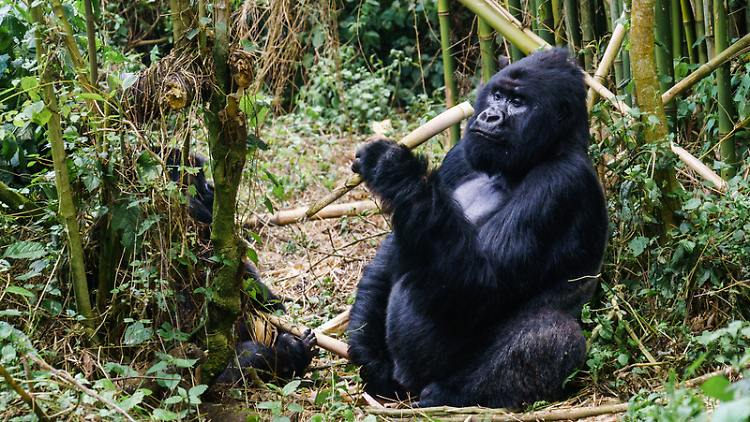Gorilla: (354, 56, 606, 399)
